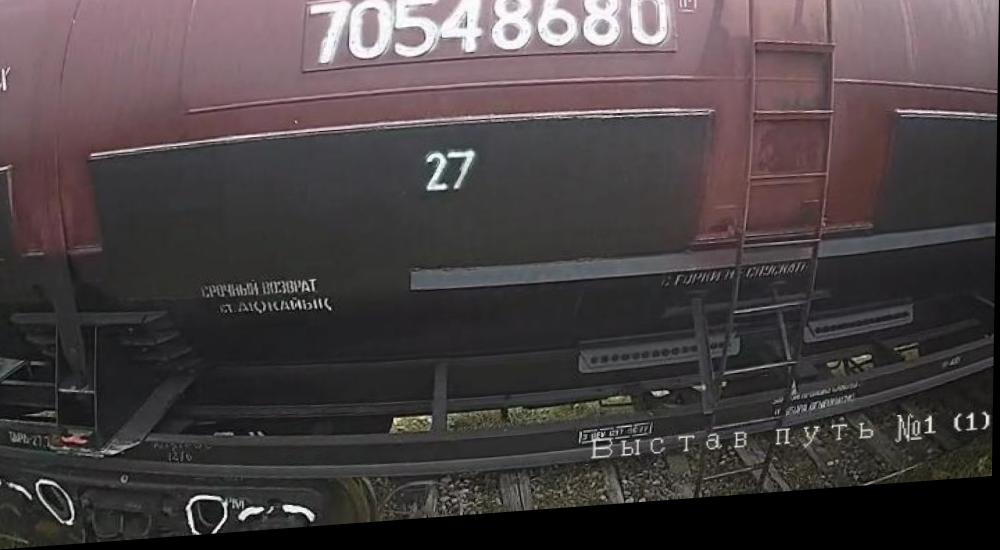Wagon-number: (310, 0, 671, 82)
